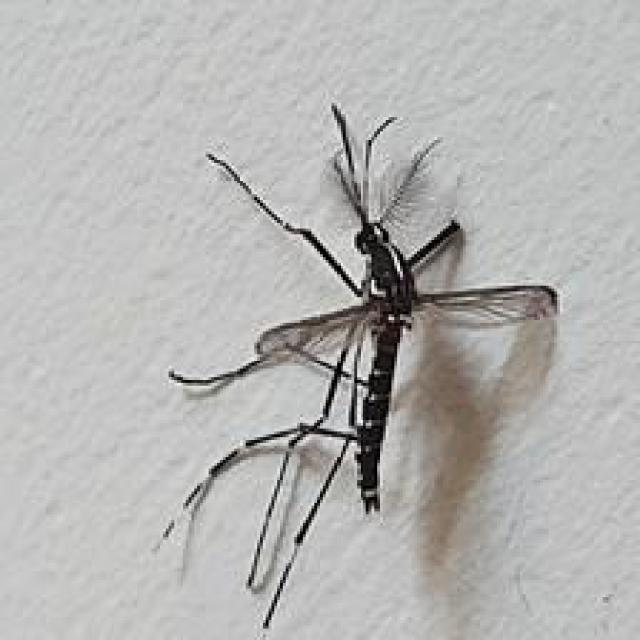Aedes albopictus: (154, 100, 560, 634)
